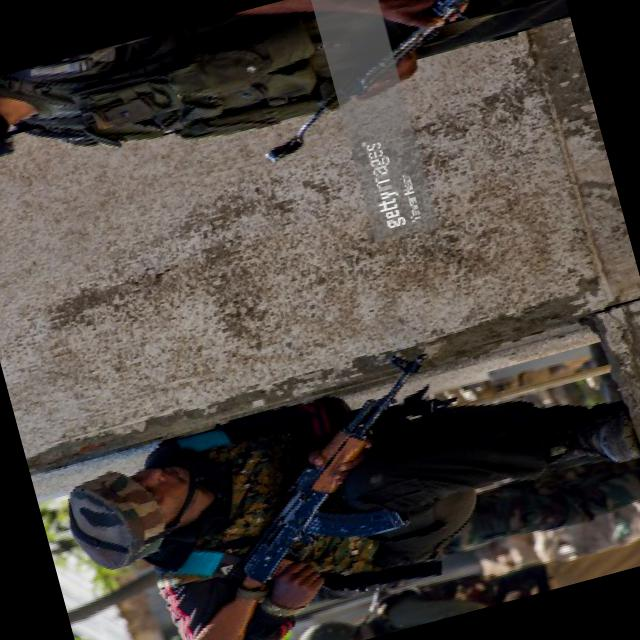handgun: (190, 340, 482, 600)
long weapon: (110, 340, 491, 639)
